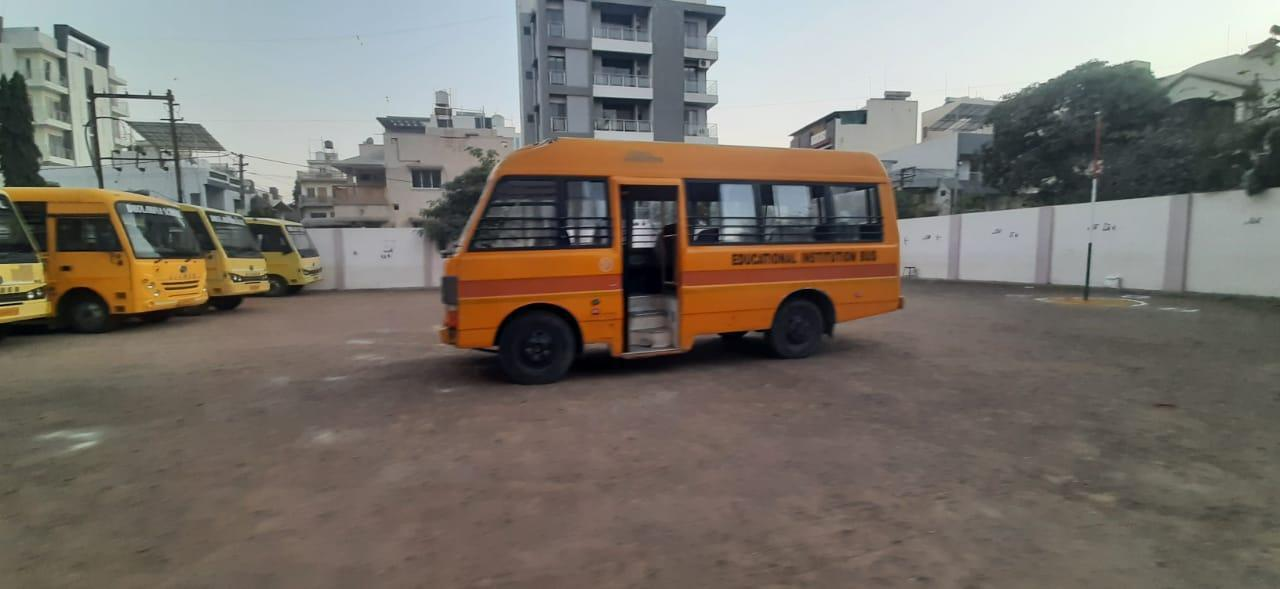Bus: (420, 119, 936, 382), (70, 188, 211, 334), (198, 199, 271, 316), (0, 194, 51, 331), (267, 211, 335, 302)
